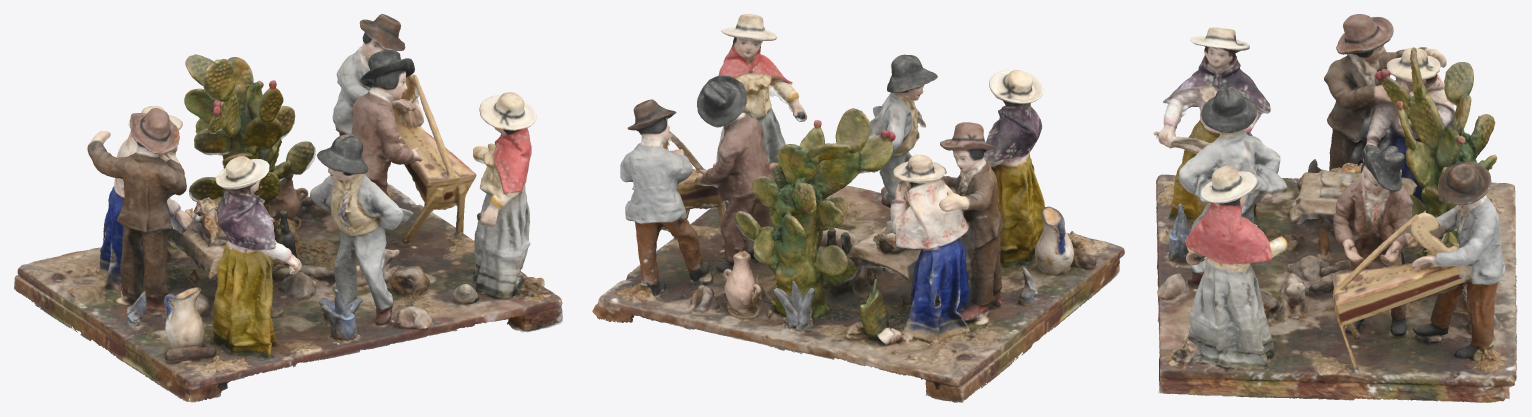
Rendered from wawapampay.glb.
The picture shows the model from 3 angles, left to right: view 1: azimuth 30°, elevation 25°; view 2: azimuth 150°, elevation 25°; view 3: azimuth 270°, elevation 25°; orthographic projection. The views are drawn at different scales.
Parts seen in each view (by area): view 1: borja; view 2: borja; view 3: borja.
Part boxes in pixels (left/top/right/bottom): borja: left=14, top=14, right=563, bottom=402; borja: left=592, top=14, right=1124, bottom=402; borja: left=1153, top=14, right=1517, bottom=402.
Bounding box in the file's own units: 4.24 × 2.5 × 3.38.
Materials: 1 (1 with a texture image).
